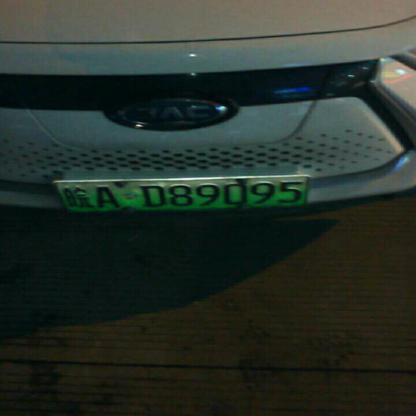lp: (55, 176, 69, 211)
